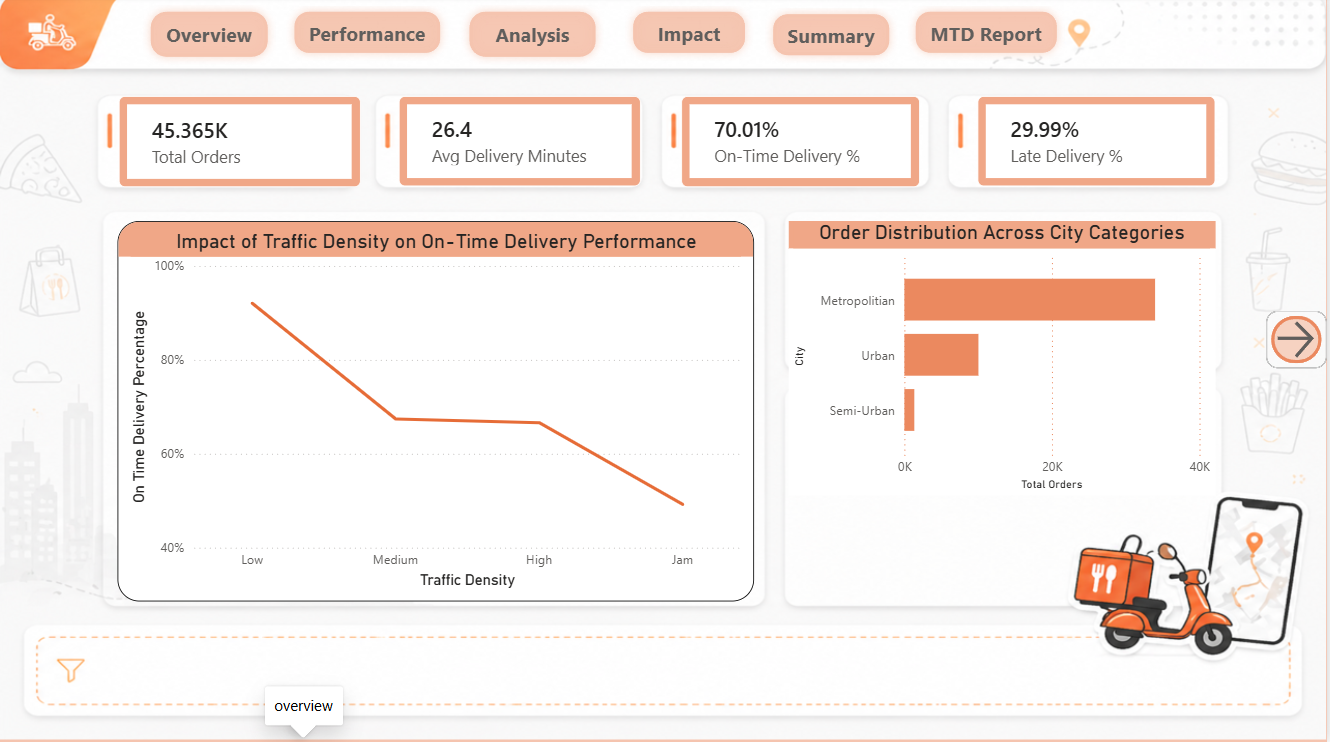

This screenshot's page, from the dashboard's own definition file:
{"tool":"powerbi","page":{"name":"overview","canvas":[1280,720],"ordinal":1},"visuals":[{"type":"cardVisual","fields":{"Data":["train.Avg Delivery Minutes"]},"box":[384.9,96.5,233.7,87.2],"z":0},{"type":"cardVisual","fields":{"Data":["train.Total Orders"]},"box":[115,96,233.6,88.4],"z":1000},{"type":"cardVisual","fields":{"Data":["train.On-Time Delivery %"]},"box":[657.3,96.7,230.5,87.7],"z":2000},{"type":"cardVisual","fields":{"Data":["train.Late Delivery %"]},"box":[943.1,96,229.8,87.1],"z":3000},{"type":"lineChart","title":"Impact of Traffic Density on On-Time Delivery Performance","fields":{"Category":["train.Road_traffic_density"],"Y":["train.On-Time Delivery %"]},"box":[113,217.1,614.1,367.3],"z":4000},{"type":"actionButton","box":[137.6,7.6,128.8,59.3],"z":5000},{"type":"actionButton","box":[276.5,7.6,156.6,55.6],"z":6000},{"type":"actionButton","box":[445.7,7.6,137.6,59.3],"z":7000},{"type":"actionButton","box":[603.5,7.6,123.7,55.6],"z":8000},{"type":"actionButton","box":[738.3,9.7,127.9,55.5],"z":9000},{"type":"clusteredBarChart","title":"Order Distribution Across City Categories","fields":{"Category":["train.City"],"Y":["train.Total Orders"]},"box":[761.6,217.4,411.6,265.1],"z":10000},{"type":"actionButton","box":[1221.8,304.3,58.5,55.5],"z":11000},{"type":"actionButton","box":[1221.5,304.3,58.5,55.5],"z":12000},{"type":"actionButton","title":"MTD Report","box":[875.9,7.2,152,55.5],"z":13000}]}

Visuals, with their boxes in screenshot pixels (x1, y1, x2, y2), scaled from the page's 1280x720 canvas onto the 1330x742 screenshot:
cardVisual - train.Avg Delivery Minutes: pyautogui.locateOnScreen(400, 99, 643, 189)
cardVisual - train.Total Orders: pyautogui.locateOnScreen(119, 99, 362, 190)
cardVisual - train.On-Time Delivery %: pyautogui.locateOnScreen(683, 100, 922, 190)
cardVisual - train.Late Delivery %: pyautogui.locateOnScreen(980, 99, 1219, 189)
"Impact of Traffic Density on On-Time Delivery Performance" lineChart: pyautogui.locateOnScreen(117, 224, 756, 602)
actionButton: pyautogui.locateOnScreen(143, 8, 277, 69)
actionButton: pyautogui.locateOnScreen(287, 8, 450, 65)
actionButton: pyautogui.locateOnScreen(463, 8, 606, 69)
actionButton: pyautogui.locateOnScreen(627, 8, 756, 65)
actionButton: pyautogui.locateOnScreen(767, 10, 900, 67)
"Order Distribution Across City Categories" clusteredBarChart: pyautogui.locateOnScreen(791, 224, 1219, 497)
actionButton: pyautogui.locateOnScreen(1270, 314, 1329, 371)
actionButton: pyautogui.locateOnScreen(1269, 314, 1329, 371)
"MTD Report" actionButton: pyautogui.locateOnScreen(910, 7, 1068, 65)
